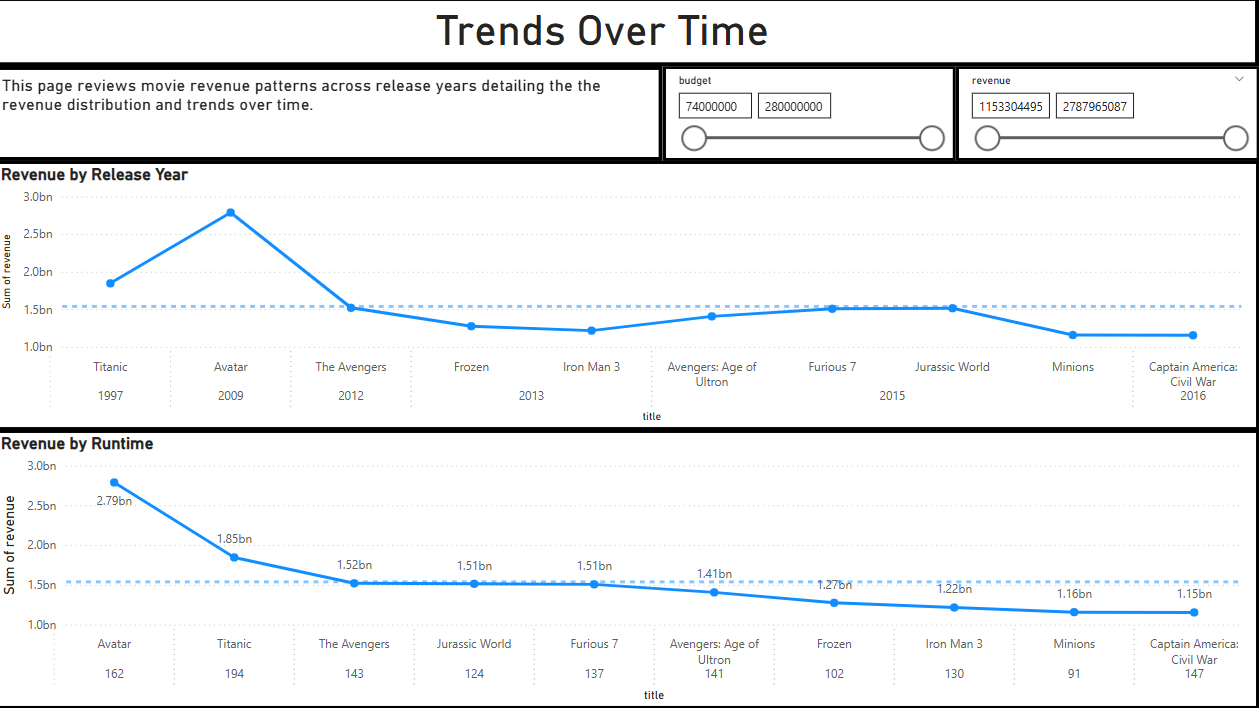

The dashboard page shown, as its layout file describes it:
{"tool":"powerbi","page":{"name":"Trends Over Time","canvas":[1280,720],"ordinal":2},"visuals":[{"type":"lineChart","title":"Revenue by Release Year","fields":{"Y":["Sum(Revenue by Release Year.revenue)"],"Category":["Revenue by Release Year.release_year","Revenue by Release Year.title"]},"box":[0,165.7,1280,271.9],"z":0},{"type":"lineChart","title":"Revenue by Runtime","fields":{"Category":["Comparing Avg runtime, buget, and revenue Top 10.runtime","Comparing Avg runtime, buget, and revenue Top 10.title"],"Y":["Sum(Comparing Avg runtime, buget, and revenue Top 10.revenue)"]},"box":[0,437.5,1280,281.8],"z":1000},{"type":"slicer","fields":{"Values":["Top 10  most profitable actor and director pairs.revenue"]},"box":[973.3,69.6,306.7,95.6],"z":2000},{"type":"slicer","fields":{"Values":["Top 10  most profitable actor and director pairs.budget"]},"box":[677.2,69.6,296.1,95.6],"z":3000},{"type":"textbox","box":[0,0,1280,69.6],"z":7000},{"type":"textbox","box":[0,69.6,677.2,95.6],"z":8000}]}

Visuals, with their boxes in screenshot pixels (x1, y1, x2, y2), scaled from the page's 1280x720 canvas onto the 1259x708 screenshot:
"Revenue by Release Year" lineChart: x1=0, y1=163, x2=1258, y2=430
"Revenue by Runtime" lineChart: x1=0, y1=430, x2=1258, y2=707
slicer - Top 10  most profitable actor and director pairs.revenue: x1=957, y1=68, x2=1258, y2=162
slicer - Top 10  most profitable actor and director pairs.budget: x1=666, y1=68, x2=957, y2=162
textbox: x1=0, y1=0, x2=1258, y2=68
textbox: x1=0, y1=68, x2=666, y2=162
